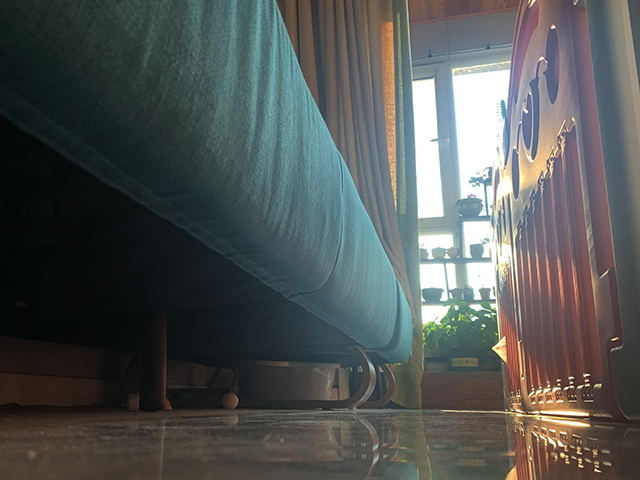curtain: (279, 1, 425, 411)
sofa: (1, 1, 412, 415)
